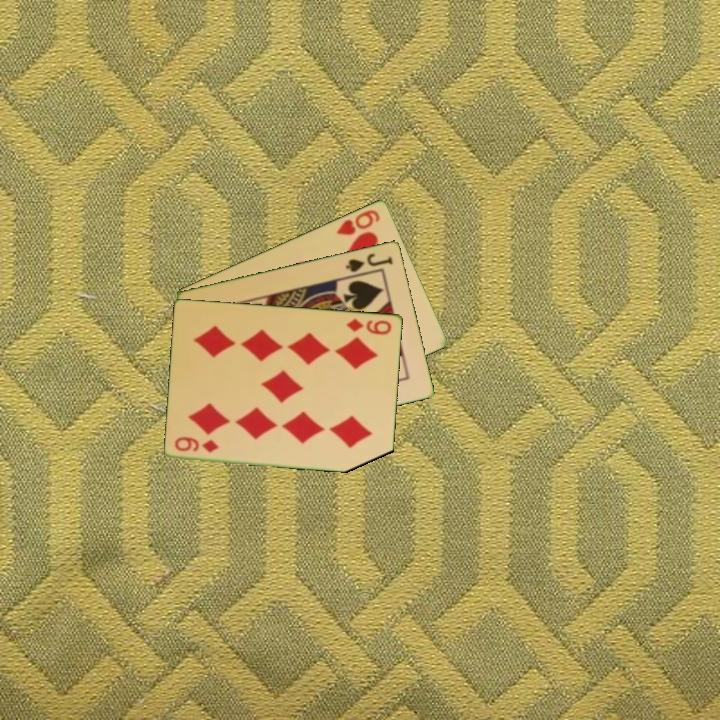6h: (333, 206, 383, 238)
9d: (343, 314, 395, 337), (171, 434, 222, 455)
Js: (342, 249, 396, 275)
